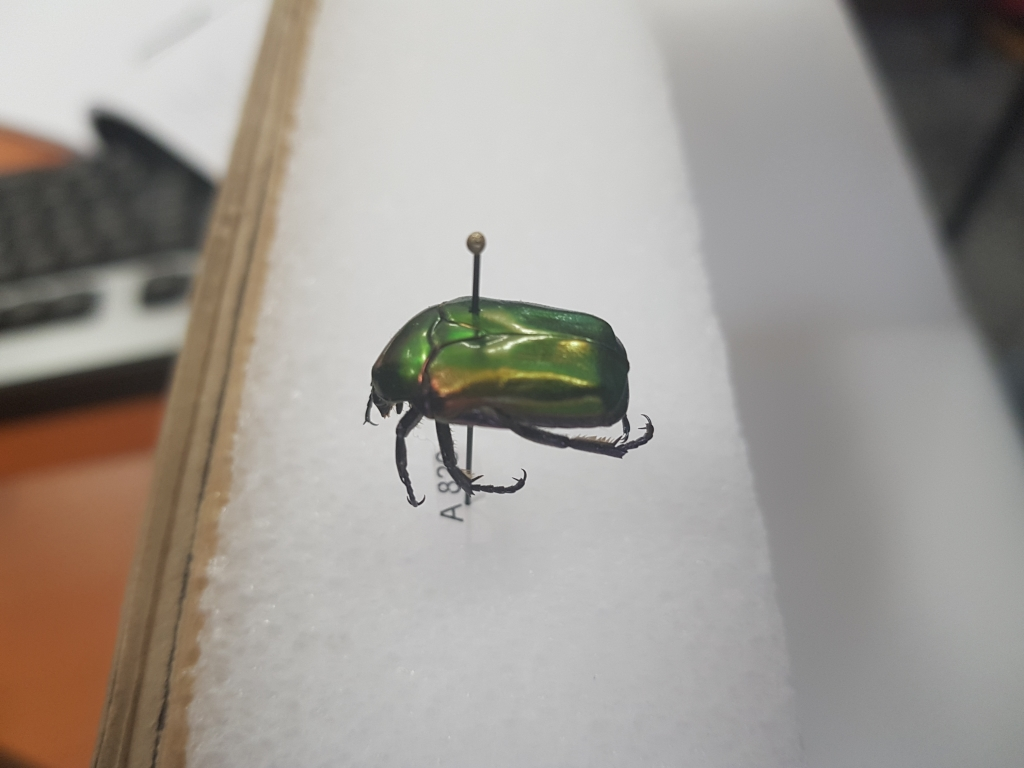Protaetia_cuprea_ignicollis: (355, 284, 660, 513)
